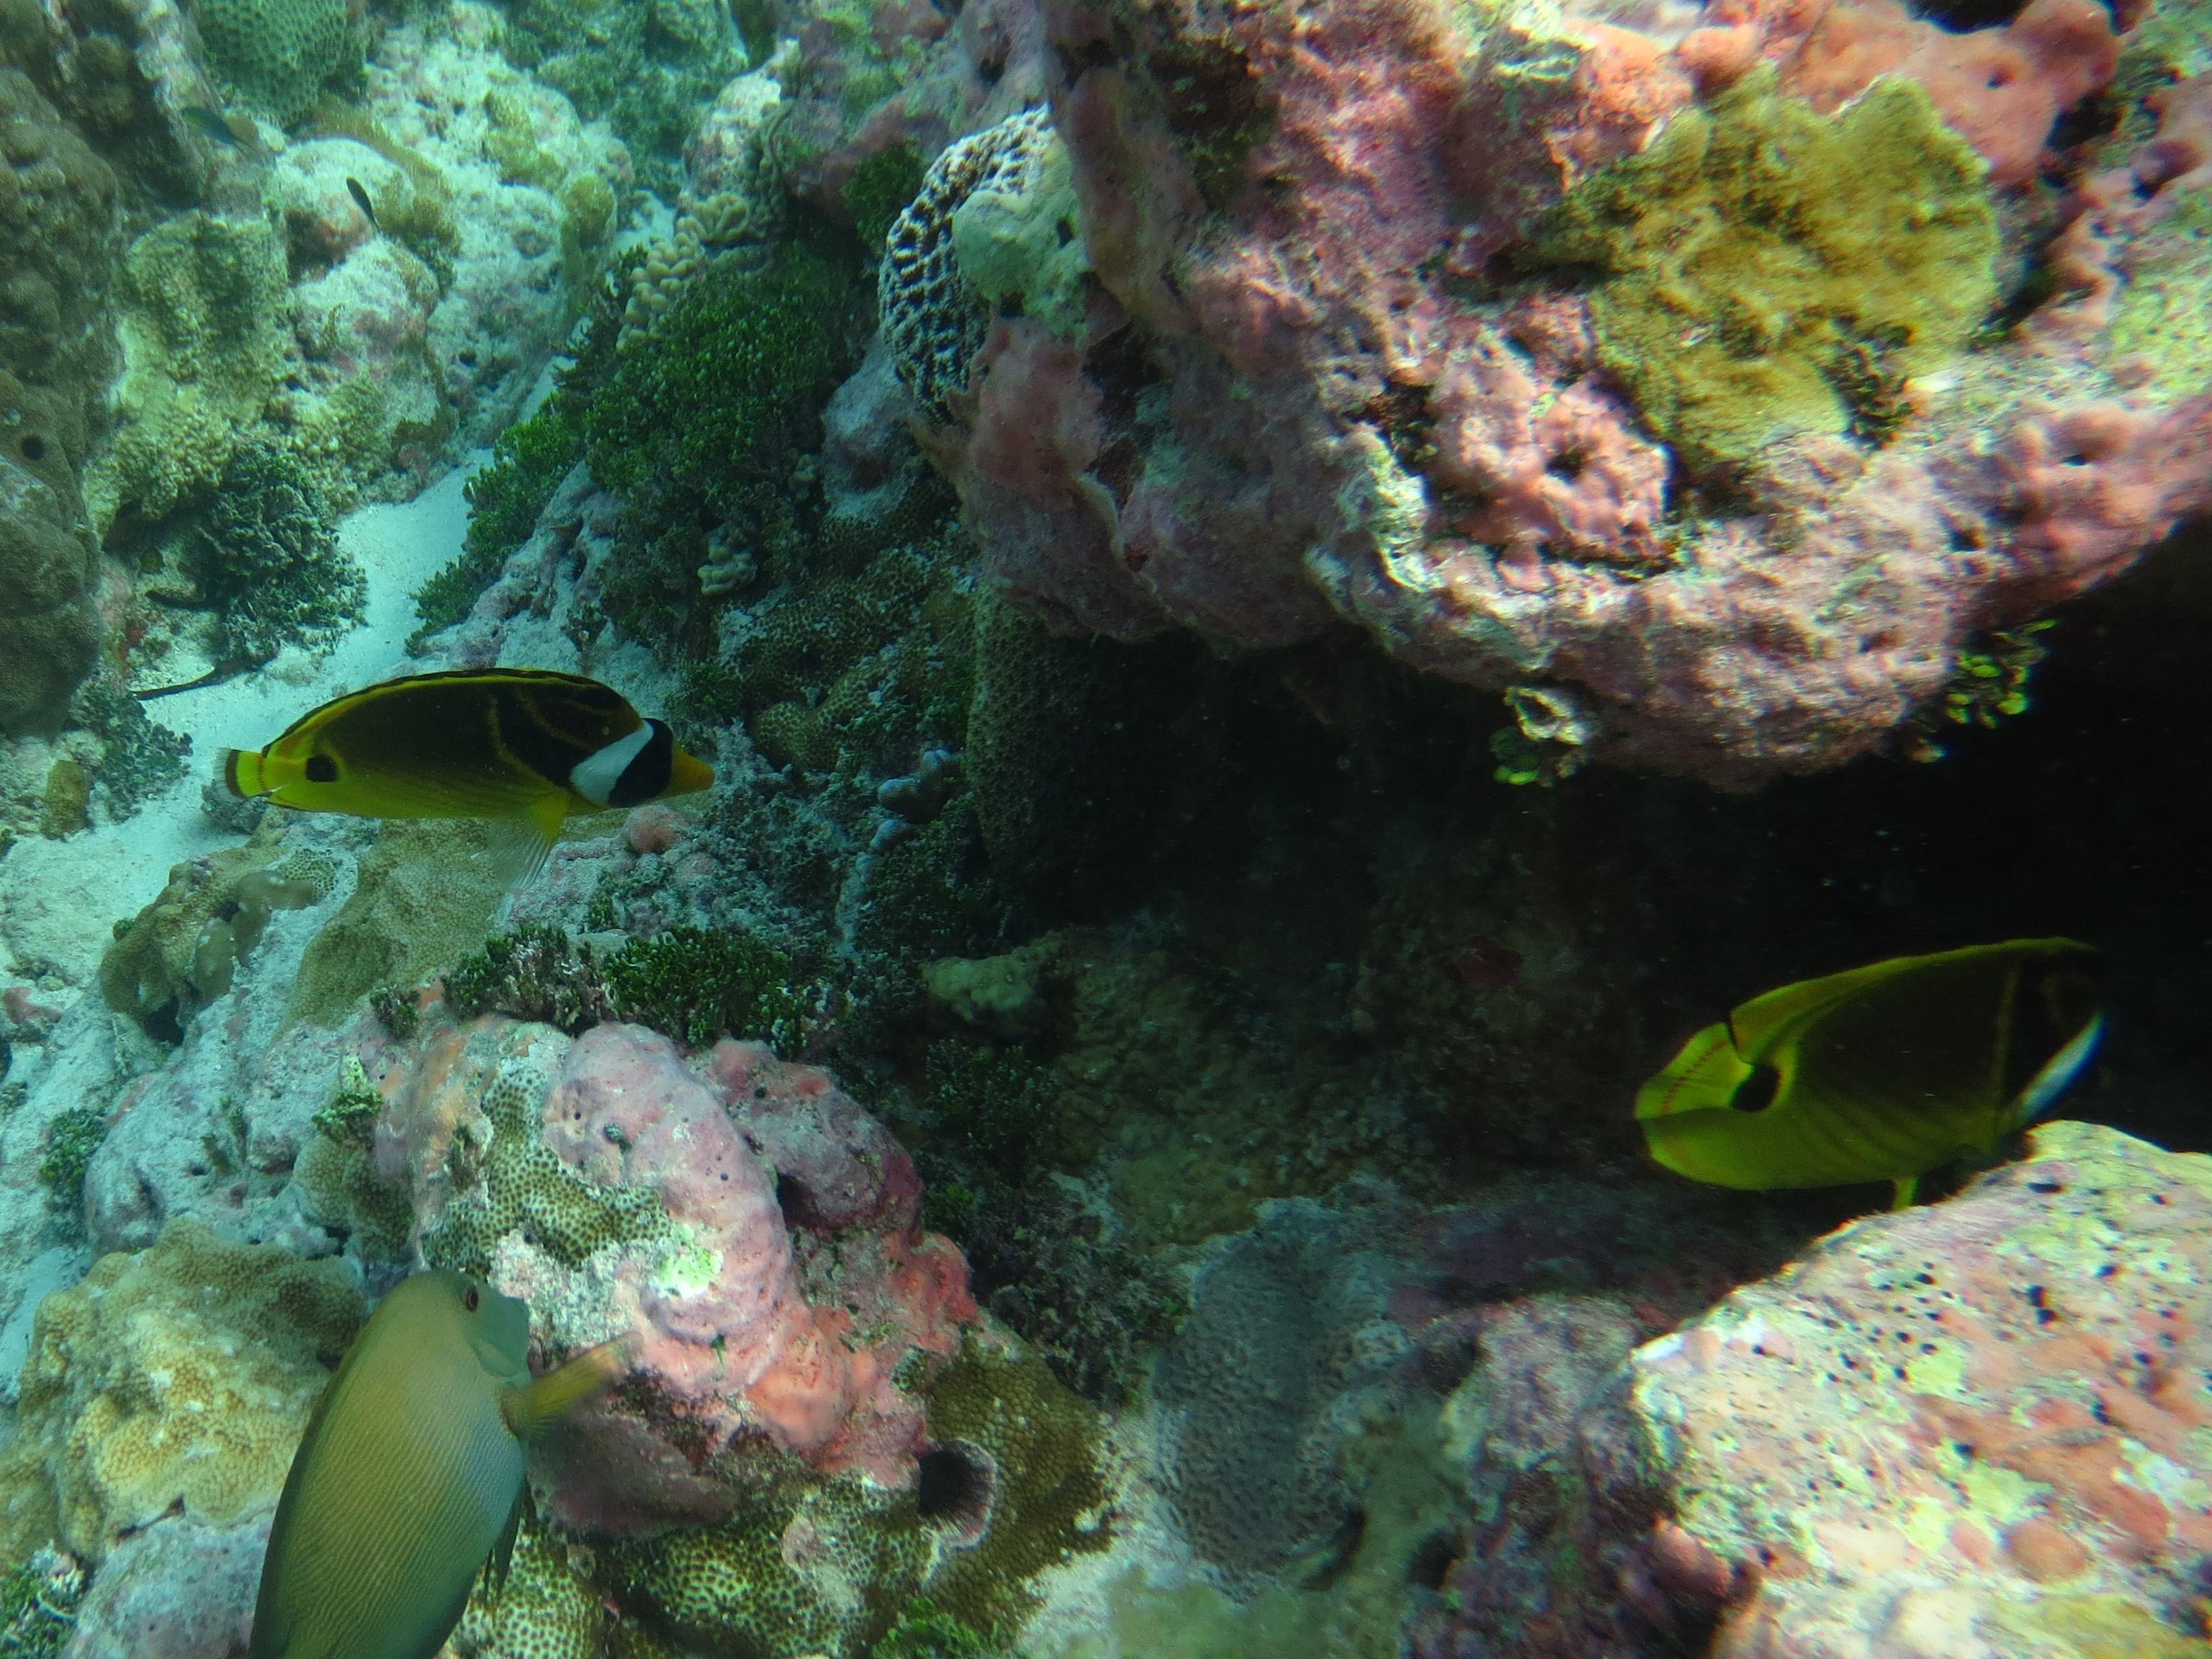Fish: (1609, 911, 2125, 1220), (216, 671, 751, 857)
